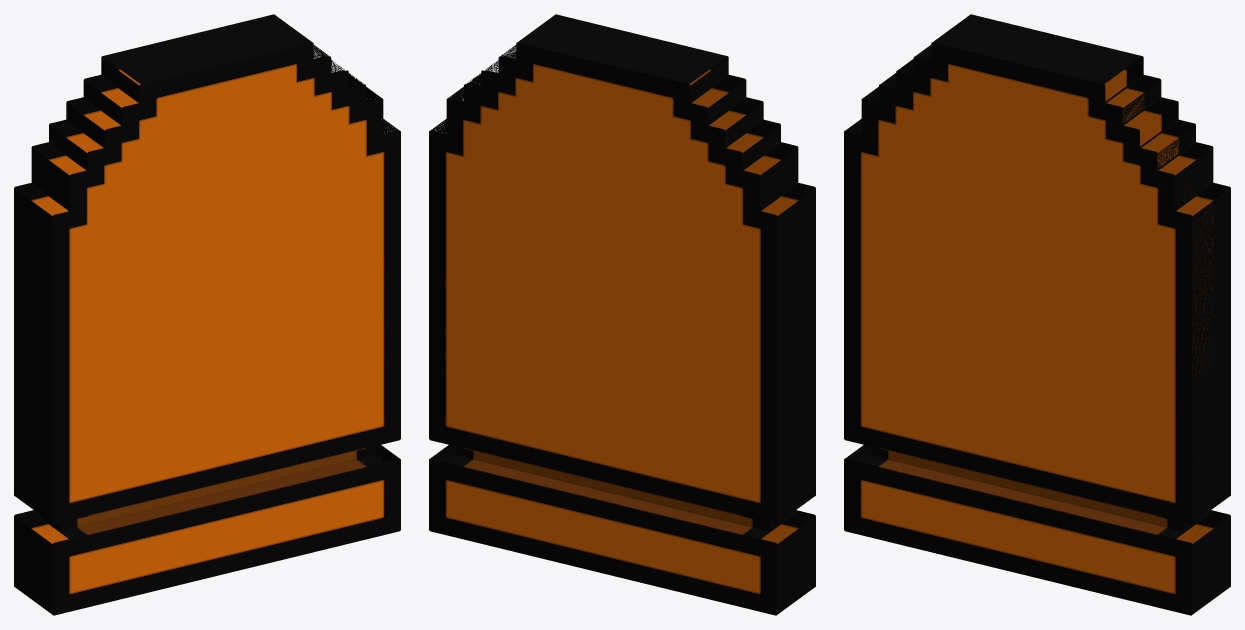
Rendered from Piercing.fbx.
3 renders of one model, left to right at view 1: azimuth 30°, elevation 25°; view 2: azimuth 150°, elevation 25°; view 3: azimuth 330°, elevation 25°, orthographic.
Parts seen in each view (by area): view 1: Piercing; view 2: Piercing; view 3: Piercing.
Boxes of the visible parts, left/top/right/bottom form: Piercing: left=14, top=14, right=400, bottom=615; Piercing: left=429, top=14, right=815, bottom=615; Piercing: left=844, top=14, right=1230, bottom=615.
Bounding box in the file's own units: 104 × 146 × 20.
